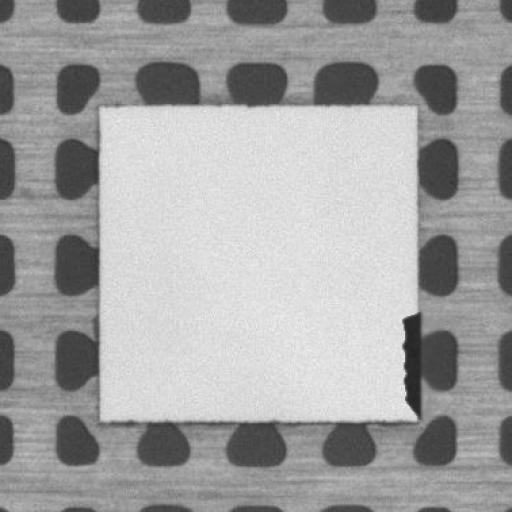DIE_BROKEN: (398, 310, 423, 414)
